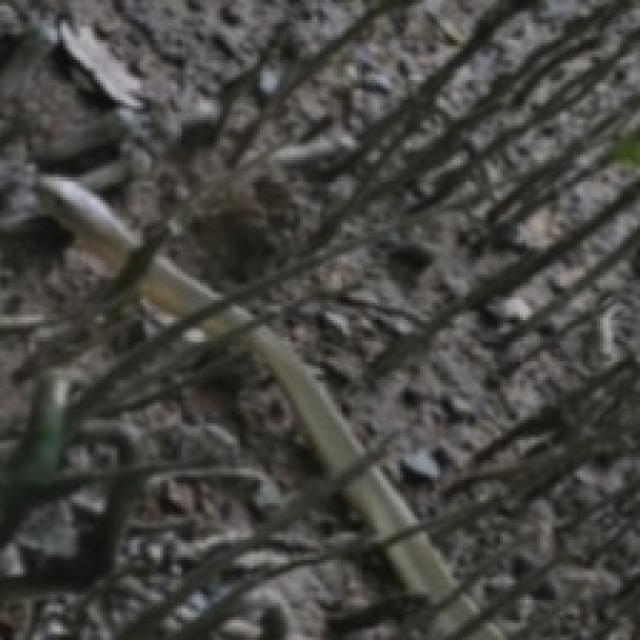king cobra: (0, 0, 543, 637), (34, 171, 140, 274)
